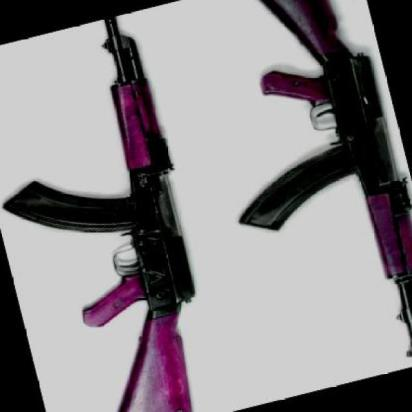Gun: (0, 6, 254, 412), (172, 0, 412, 402)
